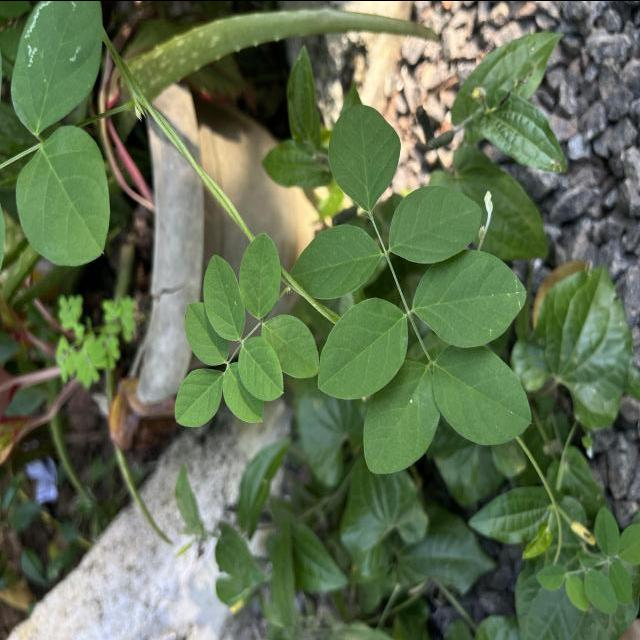Clitoria ternatea: (412, 246, 528, 348), (432, 343, 533, 445), (318, 295, 410, 400), (362, 357, 442, 474), (328, 102, 401, 212), (388, 184, 482, 264), (290, 222, 384, 300), (238, 230, 282, 318), (261, 313, 320, 378), (203, 252, 246, 340), (237, 334, 285, 402), (184, 297, 230, 366), (174, 367, 224, 427), (222, 361, 264, 424)
